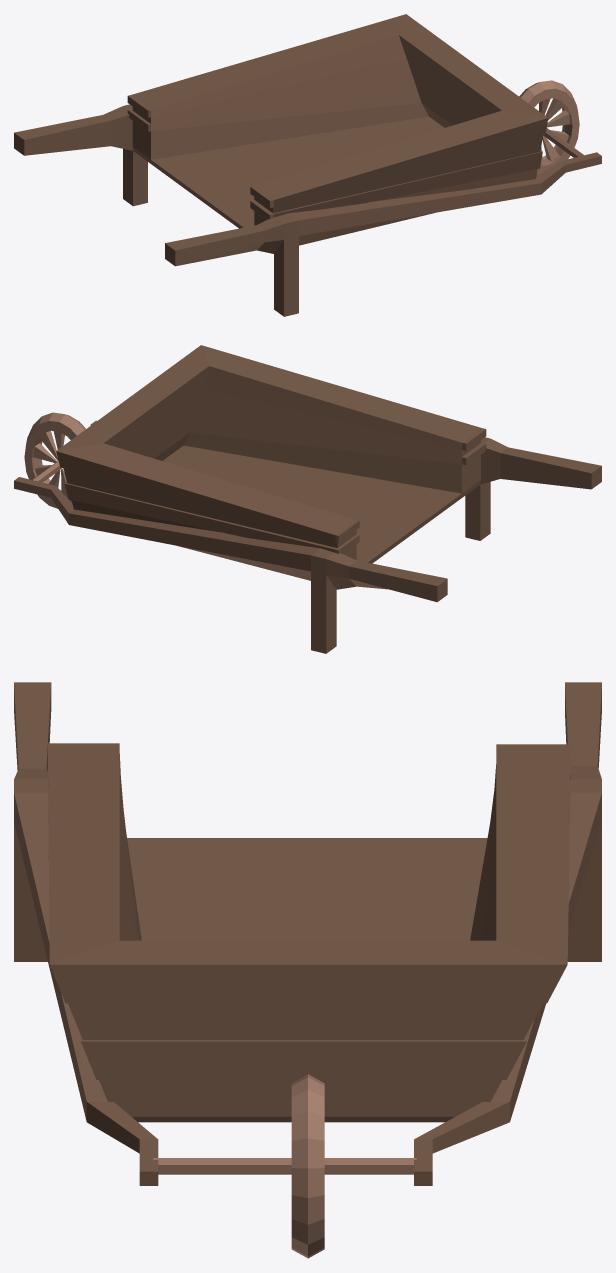
Rendered from wheelbarrow-type-001.obj.
3 renders of one model, top to bottom at view 1: azimuth 30°, elevation 25°; view 2: azimuth 150°, elevation 25°; view 3: azimuth 270°, elevation 25°, orthographic. The views are drawn at different scales.
Visible parts, largest first — view 1: wheelbarrow-type-001; view 2: wheelbarrow-type-001; view 3: wheelbarrow-type-001.
Part boxes in pixels (x1=…): wheelbarrow-type-001: x1=14, y1=14, x2=601, y2=316; wheelbarrow-type-001: x1=14, y1=345, x2=601, y2=653; wheelbarrow-type-001: x1=14, y1=682, x2=601, y2=1258.
Bounding box in the file's own units: 1.13 × 0.2804 × 0.6497.
